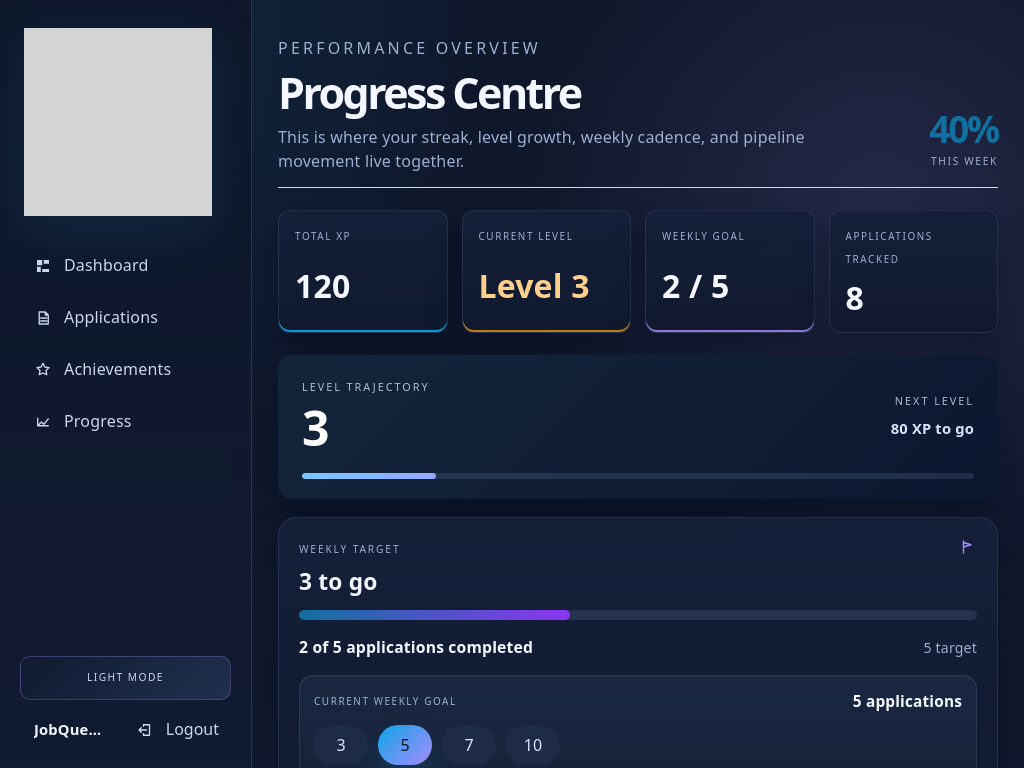
Test: ProgressPage weekly goal editor › surfaces validation-style errors for an invalid weekly goal update
Click the button "10": (533, 745) x1=506 y1=725 x2=560 y2=765
(page scrolled)
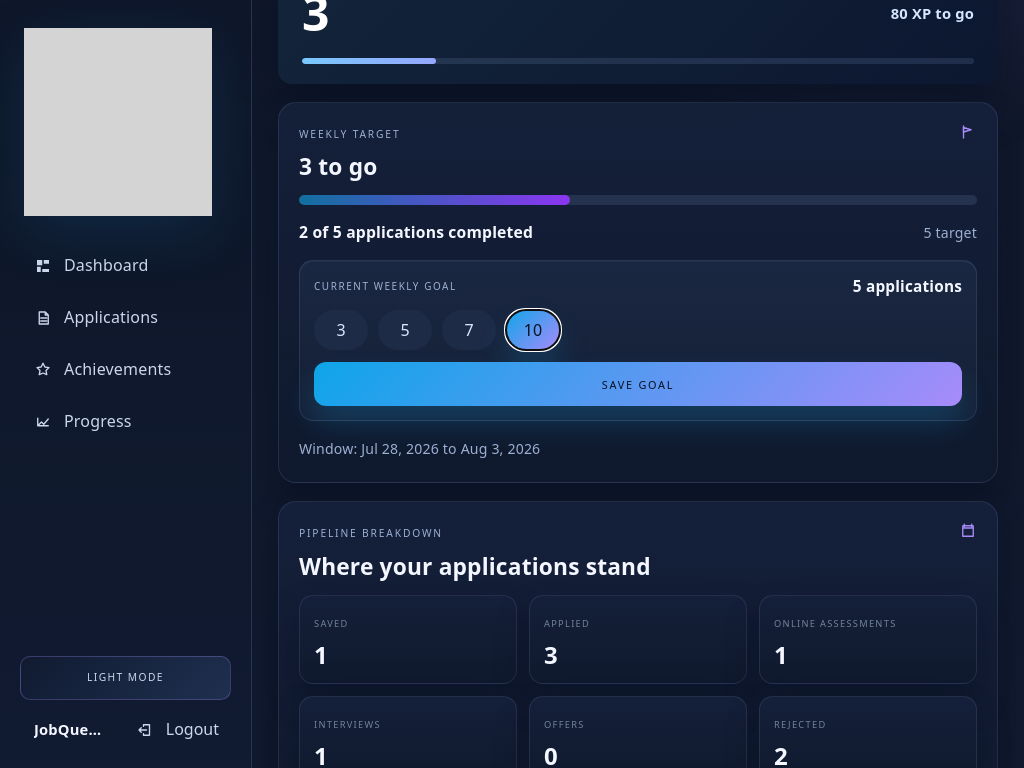
Click the button "Save goal": (638, 384) x1=314 y1=362 x2=962 y2=406
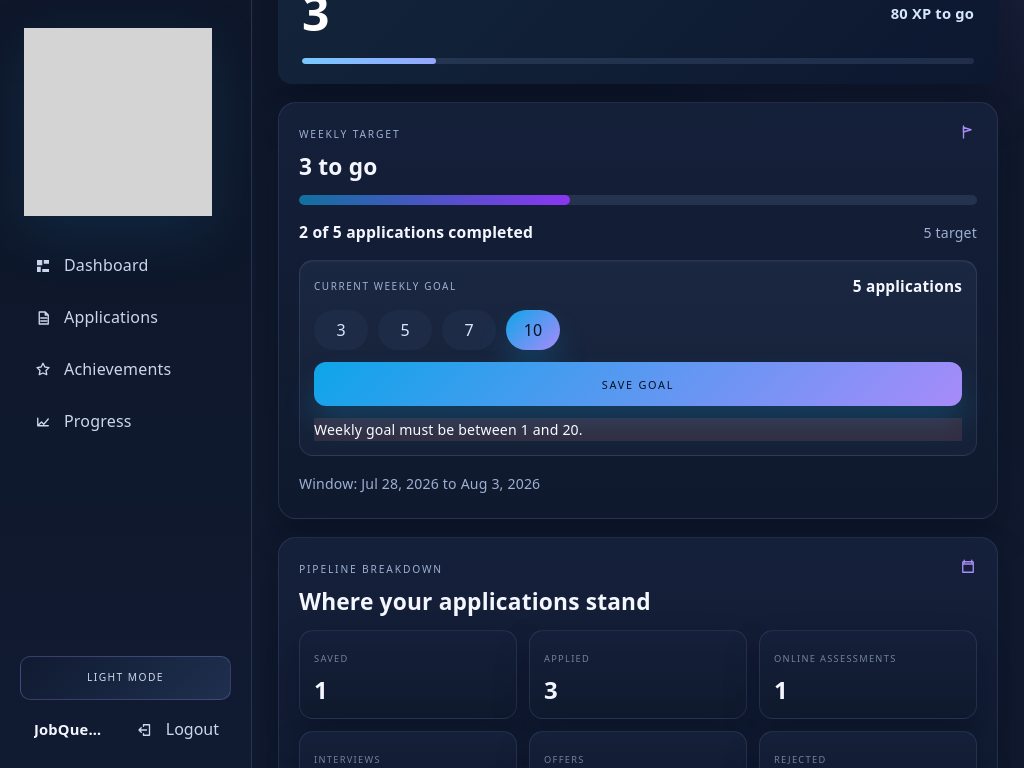
Expected: the text "2 of 5 applications completed" is shown, x1=299 y1=221 x2=533 y2=244
Expected: the text "Weekly goal must be between 1 and 20." is shown, x1=314 y1=418 x2=962 y2=442
